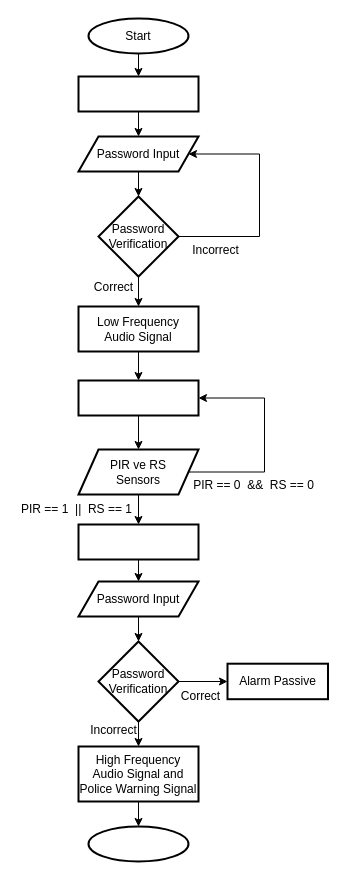
Image size: 346x879. Some labels were removed from this diagram. Each missing label, with the centre of its shape:
Alarm Active: the point at 138,397
Alarm Setup: the point at 138,93
End: the point at 138,843
Security Violation: the point at 138,541
